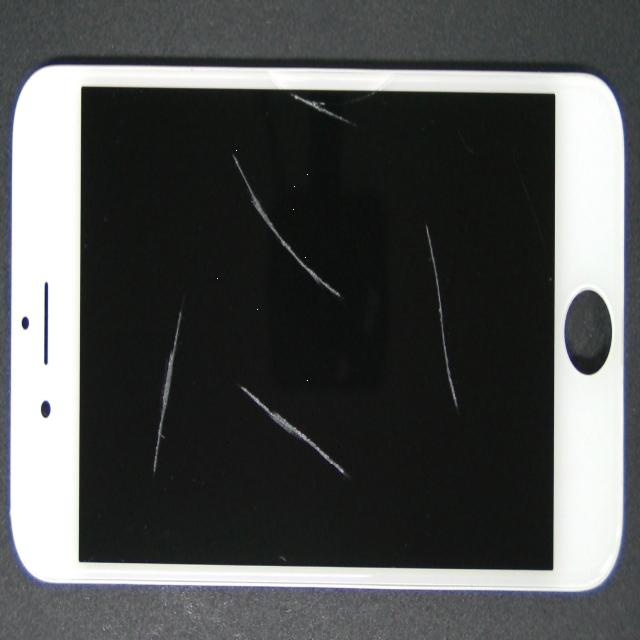scratch: (46, 177, 407, 640), (51, 18, 385, 330)
